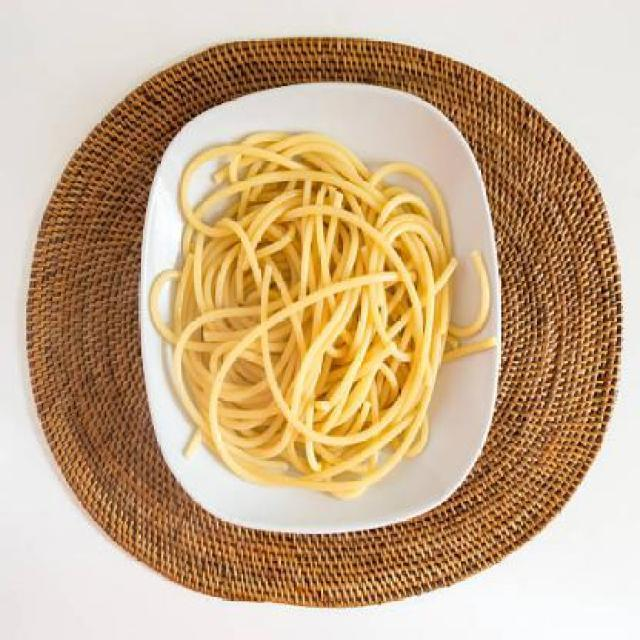Pasta: (148, 130, 497, 504)
